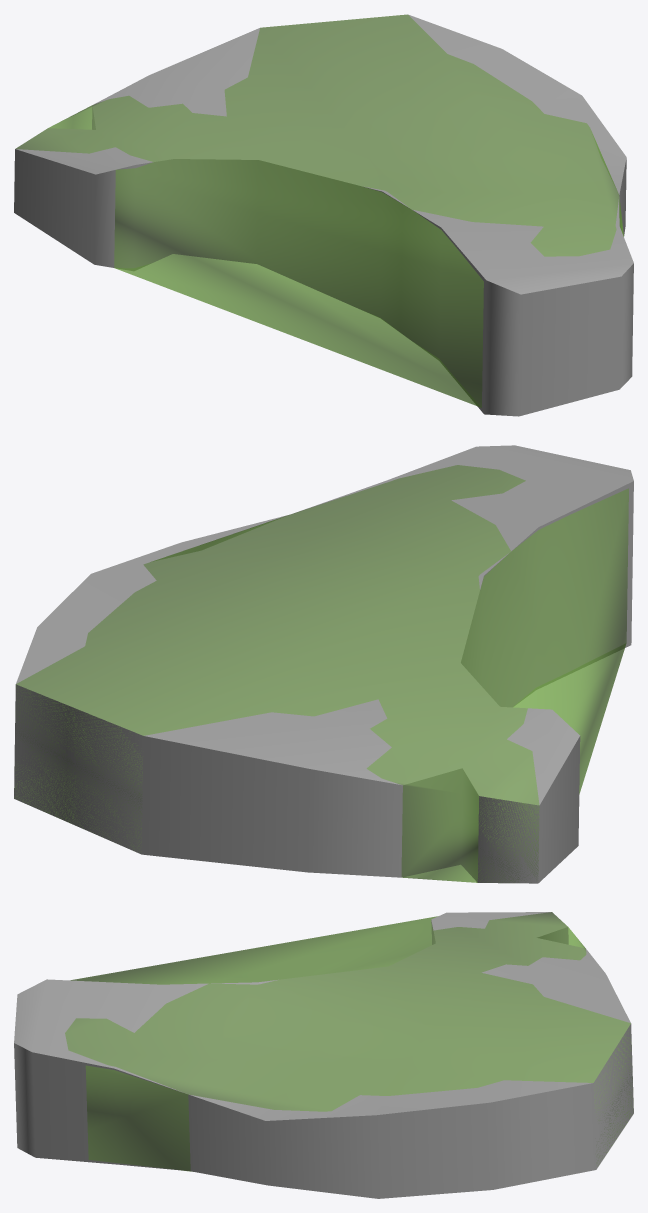
The model's file is pg_Steak_07.fbx.
The picture shows the model from 3 angles, top to bottom: view 1: azimuth 30°, elevation 25°; view 2: azimuth 150°, elevation 25°; view 3: azimuth 270°, elevation 25°; orthographic projection. The views are drawn at different scales.
Parts seen in each view (by area): view 1: pg_Steak_07_a_LOD0, pg_Steak_07_a_col; view 2: pg_Steak_07_a_LOD0, pg_Steak_07_a_col; view 3: pg_Steak_07_a_LOD0, pg_Steak_07_a_col.
Boxes of the visible parts, x1=… form: pg_Steak_07_a_LOD0: x1=14, y1=14, x2=633, y2=416; pg_Steak_07_a_col: x1=16, y1=14, x2=623, y2=407; pg_Steak_07_a_LOD0: x1=14, y1=445, x2=633, y2=883; pg_Steak_07_a_col: x1=15, y1=465, x2=628, y2=883; pg_Steak_07_a_LOD0: x1=14, y1=912, x2=633, y2=1198; pg_Steak_07_a_col: x1=65, y1=912, x2=633, y2=1171.
Size of what is drawn, in the model's own units: 19.01 by 5.34 by 23.59.
